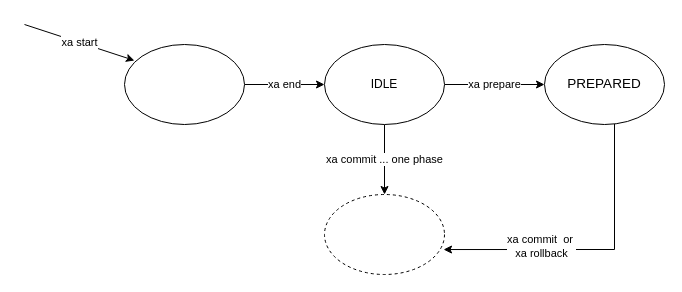
This 682x292 diagram has some shape labels left out. Each missing label, with the box of its shape:
ACTIVE: (124, 44, 244, 124)
TERMINATED: (324, 194, 444, 274)
